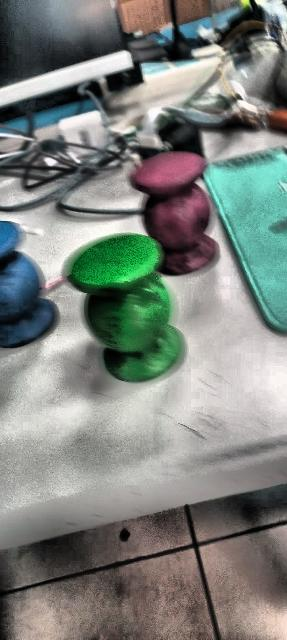blue: (0, 221, 56, 357)
green: (58, 234, 202, 392)
red: (124, 160, 226, 276)
